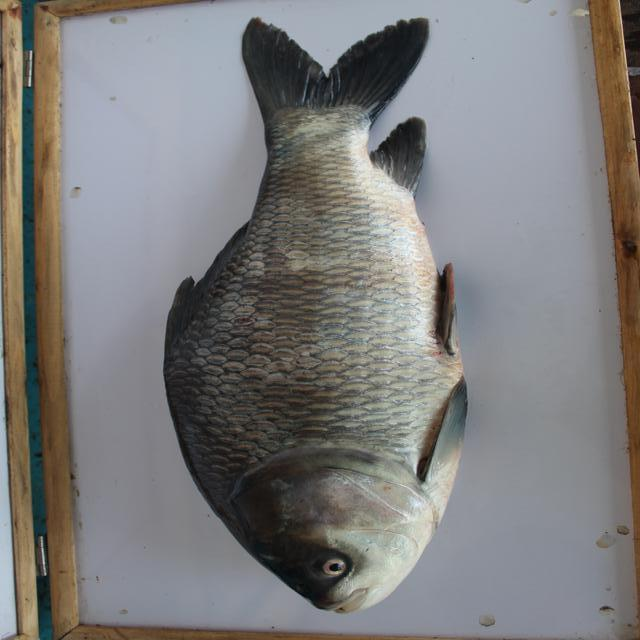Indian Carp: (169, 10, 472, 620)
